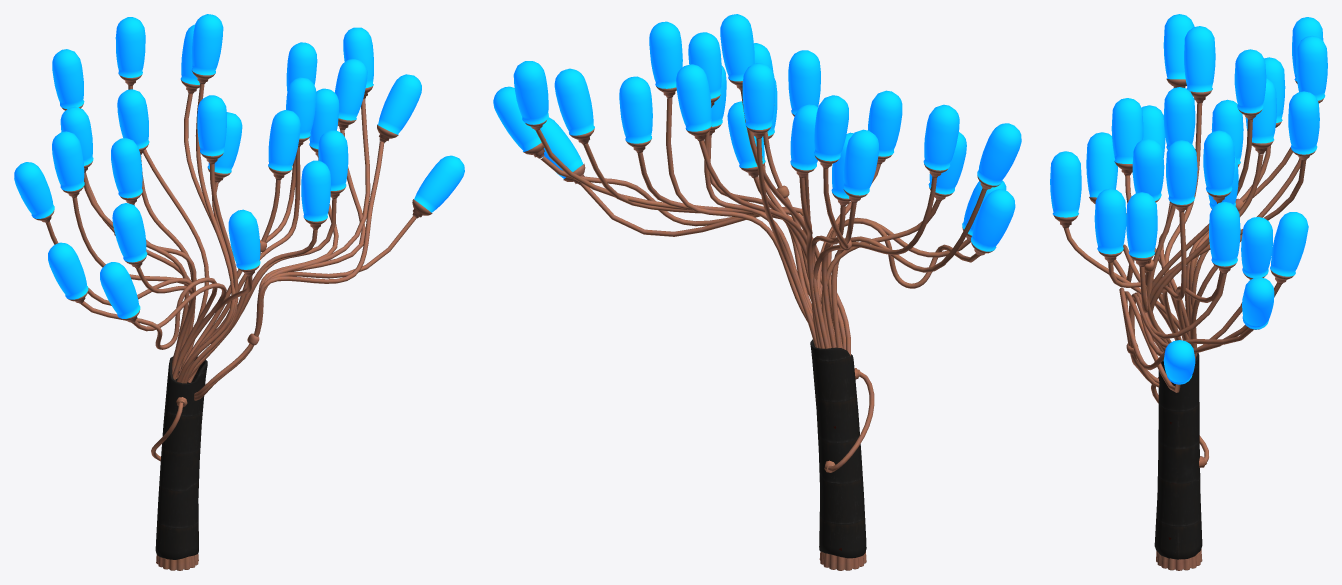
The model's file is tree_002.gltf.
3 views of the same model, side by side, from view 1: azimuth 30°, elevation 25°; view 2: azimuth 150°, elevation 25°; view 3: azimuth 270°, elevation 25° (orthographic). The views are drawn at different scales.
Visible parts, largest first — view 1: tree_002(Clone); view 2: tree_002(Clone); view 3: tree_002(Clone).
Boxes of the visible parts, bbox=[...] form: tree_002(Clone): bbox=[14, 14, 464, 570]; tree_002(Clone): bbox=[493, 14, 1021, 570]; tree_002(Clone): bbox=[1050, 14, 1327, 570].
Size of the model in its own units: 7.33 by 7.94 by 3.67.
Materials: 3 (2 with a texture image).
